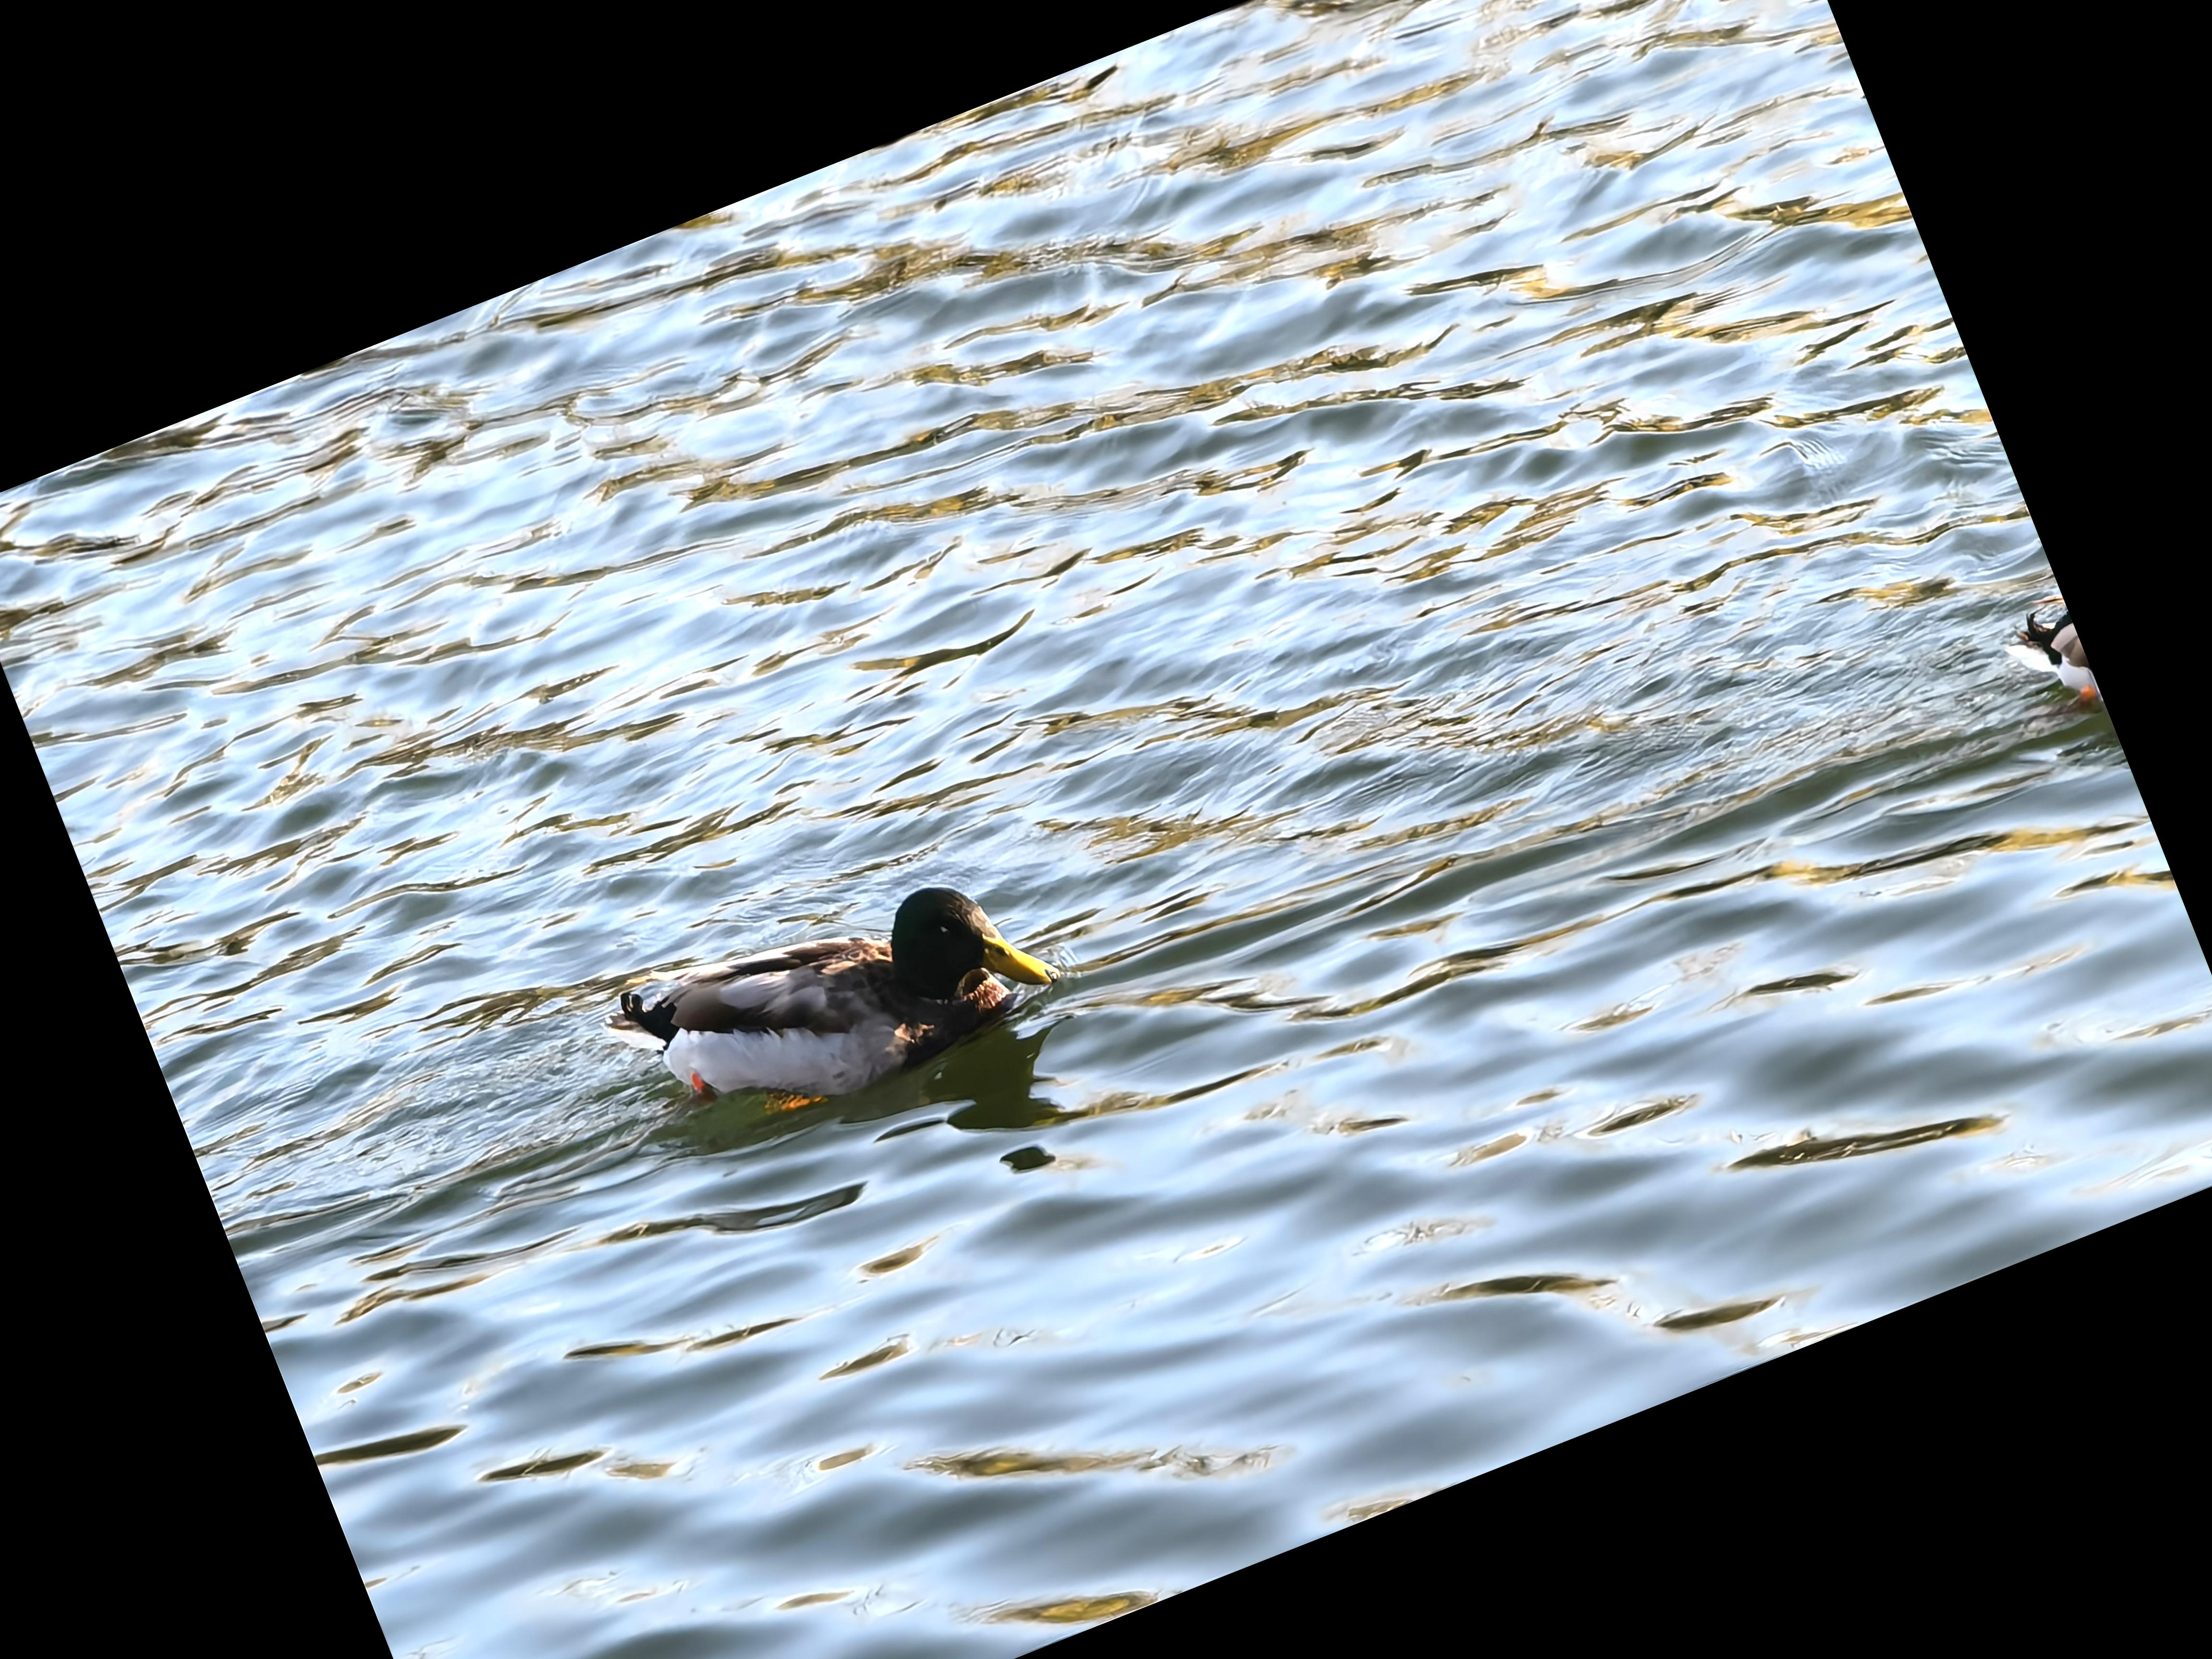duck: (536, 831, 1087, 1211)
